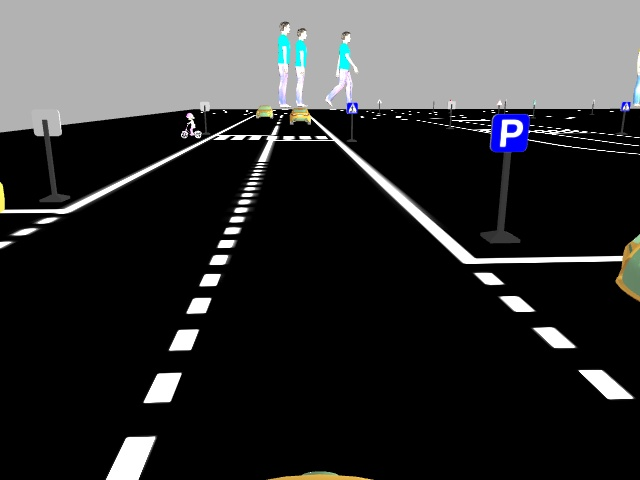Parking: (488, 114, 531, 154)
